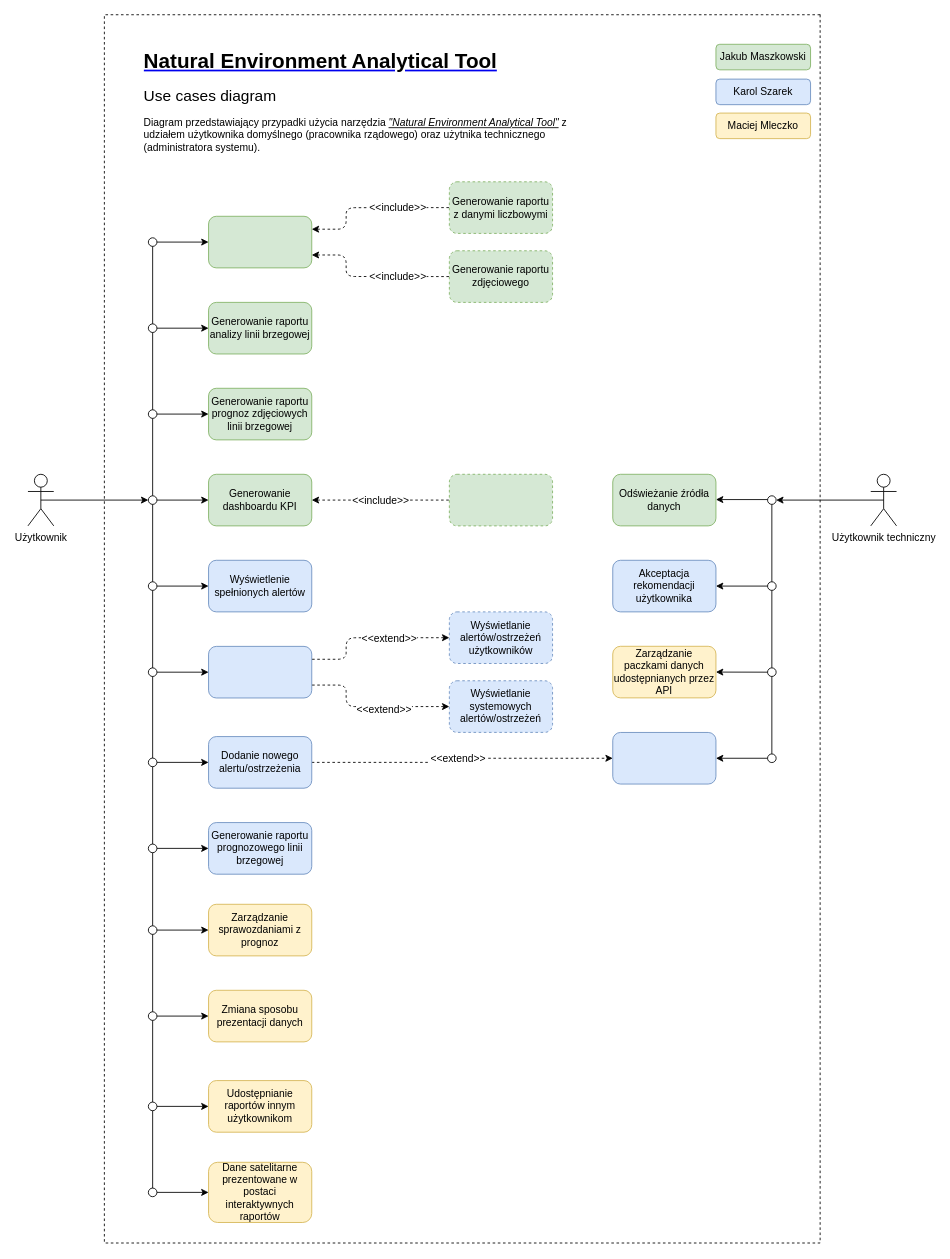
The diagram is 950 pixels wide and 1259 high, and some of its shapes have lost their labels. Each missing label, with the centre of its shape:
"Dodanie nowego alertu bez konieczności akceptacji" goes at (x=664, y=758).
"Generowanie raportu analizy poziomu zalesienia" goes at (x=260, y=241).
"Przechodzenie do powiązanego raportu" goes at (x=500, y=499).
"Wyświetlenie panelu alertów" goes at (x=260, y=672).
